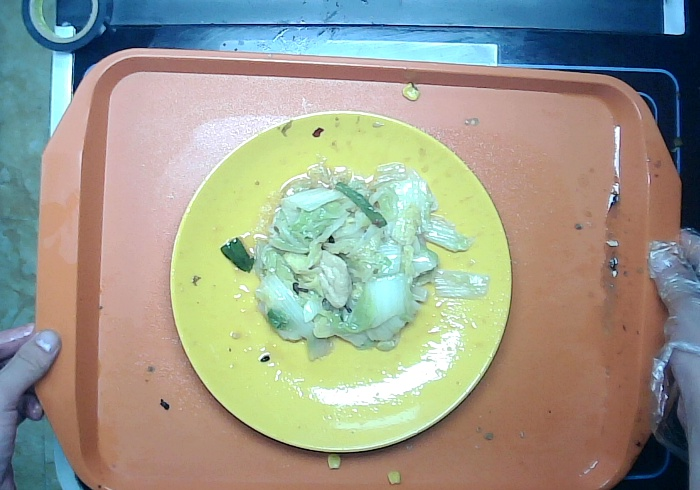HZYJPL-Huang_Se_Yuan_Pan: (168, 111, 514, 455)
